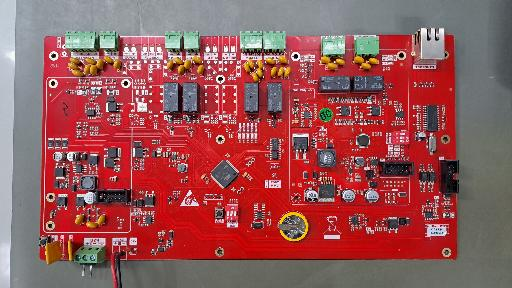var: (45, 240, 64, 265), (67, 239, 73, 261), (75, 214, 85, 225), (67, 62, 80, 70), (97, 214, 106, 225), (177, 64, 185, 76), (70, 57, 82, 65), (90, 63, 97, 76), (86, 221, 99, 228), (113, 60, 122, 70), (96, 59, 104, 70), (85, 58, 97, 65), (244, 62, 251, 74), (354, 56, 364, 64), (278, 56, 288, 64), (321, 56, 331, 64), (192, 56, 202, 64), (247, 59, 255, 69), (104, 56, 114, 64), (84, 64, 91, 75), (368, 58, 379, 65), (173, 58, 184, 65), (197, 64, 204, 75), (265, 57, 276, 64), (72, 70, 84, 76), (335, 58, 345, 65), (327, 63, 337, 70), (361, 63, 371, 70), (167, 60, 174, 70), (184, 60, 191, 70), (256, 68, 263, 78), (278, 66, 284, 77), (284, 67, 290, 78), (271, 66, 277, 77), (257, 60, 264, 69), (252, 73, 259, 82)
